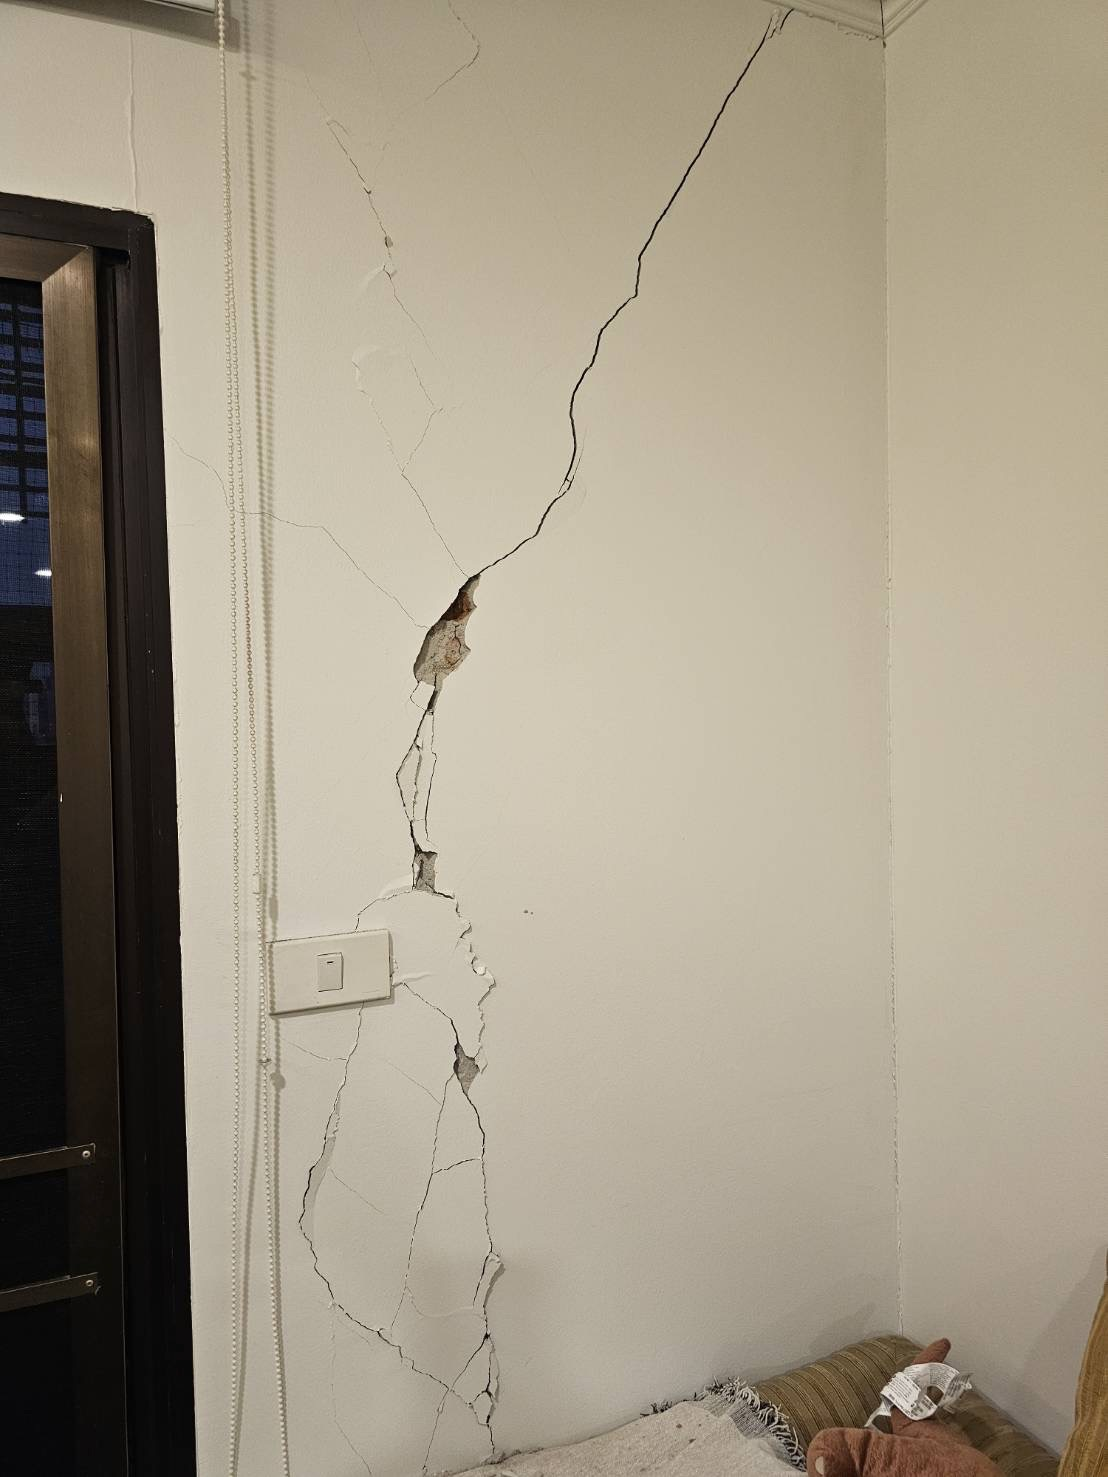High: (268, 3, 800, 1477)
